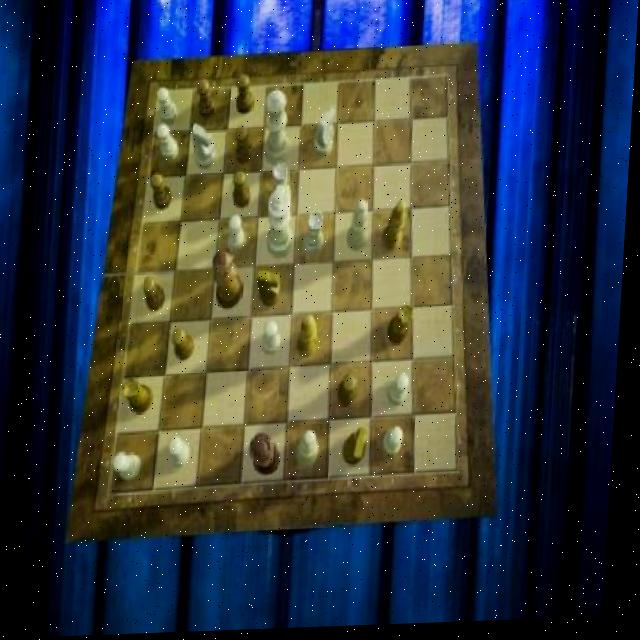bishop: (385, 203, 410, 255), (301, 318, 324, 361)
black-bishop: (254, 434, 289, 477)
black-king: (259, 272, 285, 310), (349, 430, 373, 469)
black-knight: (145, 276, 170, 313), (197, 81, 219, 122), (151, 175, 176, 211), (175, 330, 200, 364), (234, 172, 255, 211), (237, 77, 257, 117), (237, 128, 256, 167), (342, 376, 362, 411)
black-pawn: (214, 249, 250, 312)
black-queen: (125, 378, 159, 417), (392, 307, 419, 348)
black-rook: (351, 203, 373, 256), (302, 433, 327, 471)
white-bishop: (269, 187, 299, 261)
white-king: (192, 124, 220, 170), (315, 109, 337, 160)
white-knight: (157, 124, 181, 162), (158, 88, 181, 126), (173, 438, 197, 472), (119, 454, 148, 482), (394, 377, 416, 410), (230, 217, 249, 253), (266, 322, 285, 357), (389, 430, 410, 460)
white-pawn: (264, 90, 295, 168)
white-queen: (274, 165, 296, 212), (306, 215, 328, 259)
